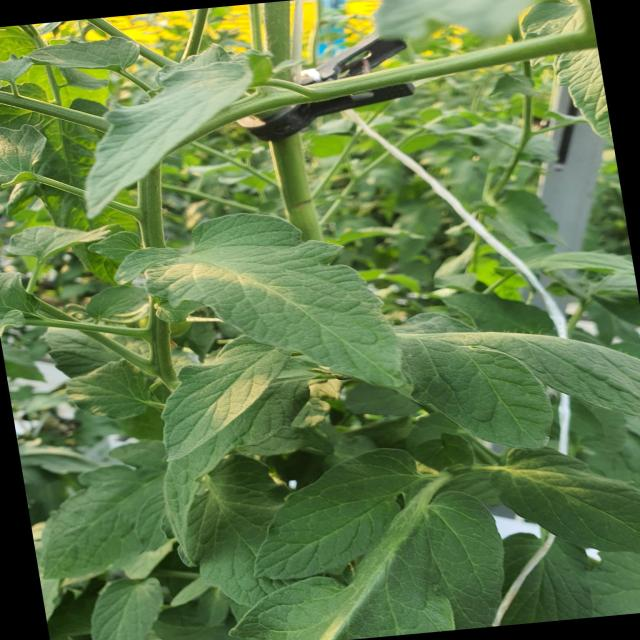Healthy Leaf: (116, 224, 437, 396), (82, 43, 280, 229)
